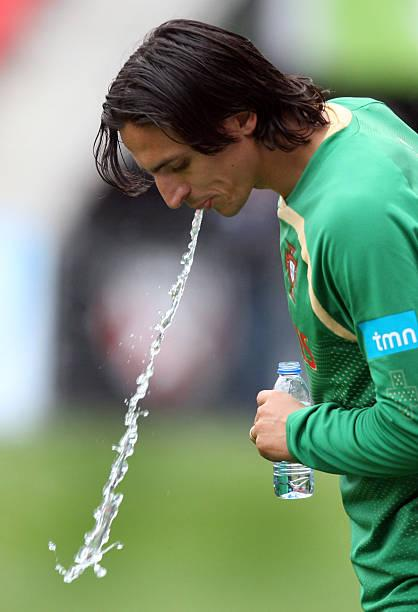Spitting: (69, 0, 327, 313)
